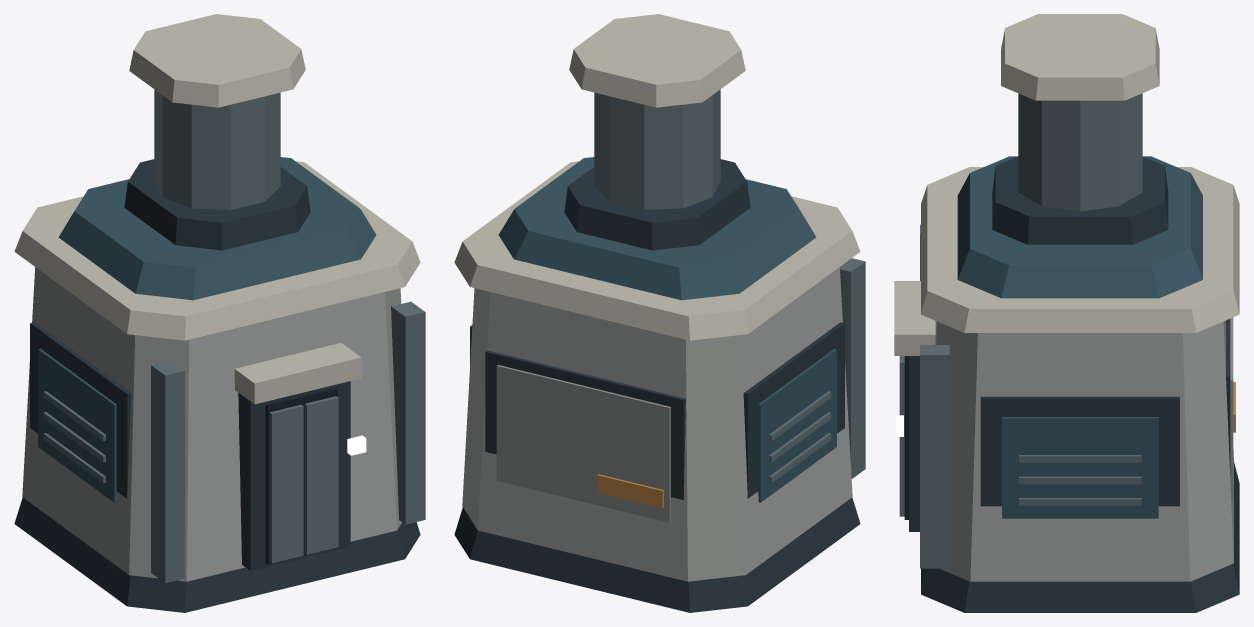
File: hero_forge_t1.glb
The picture shows the model from 3 angles, left to right: view 1: azimuth 30°, elevation 25°; view 2: azimuth 150°, elevation 25°; view 3: azimuth 270°, elevation 25°; orthographic projection. The views are drawn at different scales.
Visible parts, largest first — view 1: body; view 2: body; view 3: body.
Boxes of the visible parts, box(x1,y1,x2,y2) form: body: box(14, 14, 425, 612); body: box(454, 14, 865, 612); body: box(894, 14, 1239, 612).
Bounding box in the file's own units: 1.76 × 2.75 × 1.75.
